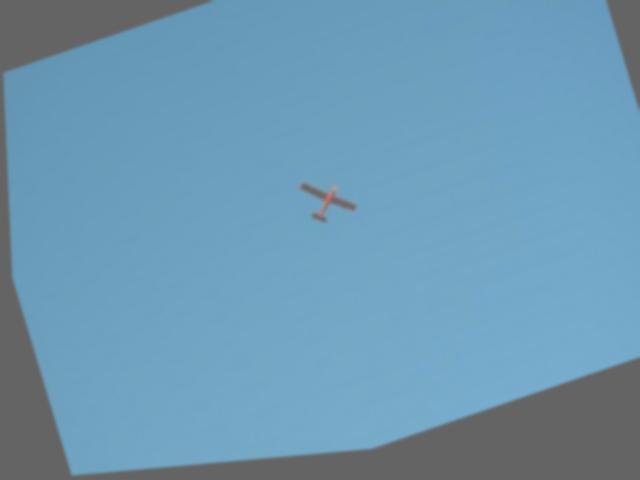iha: (288, 170, 361, 240)
